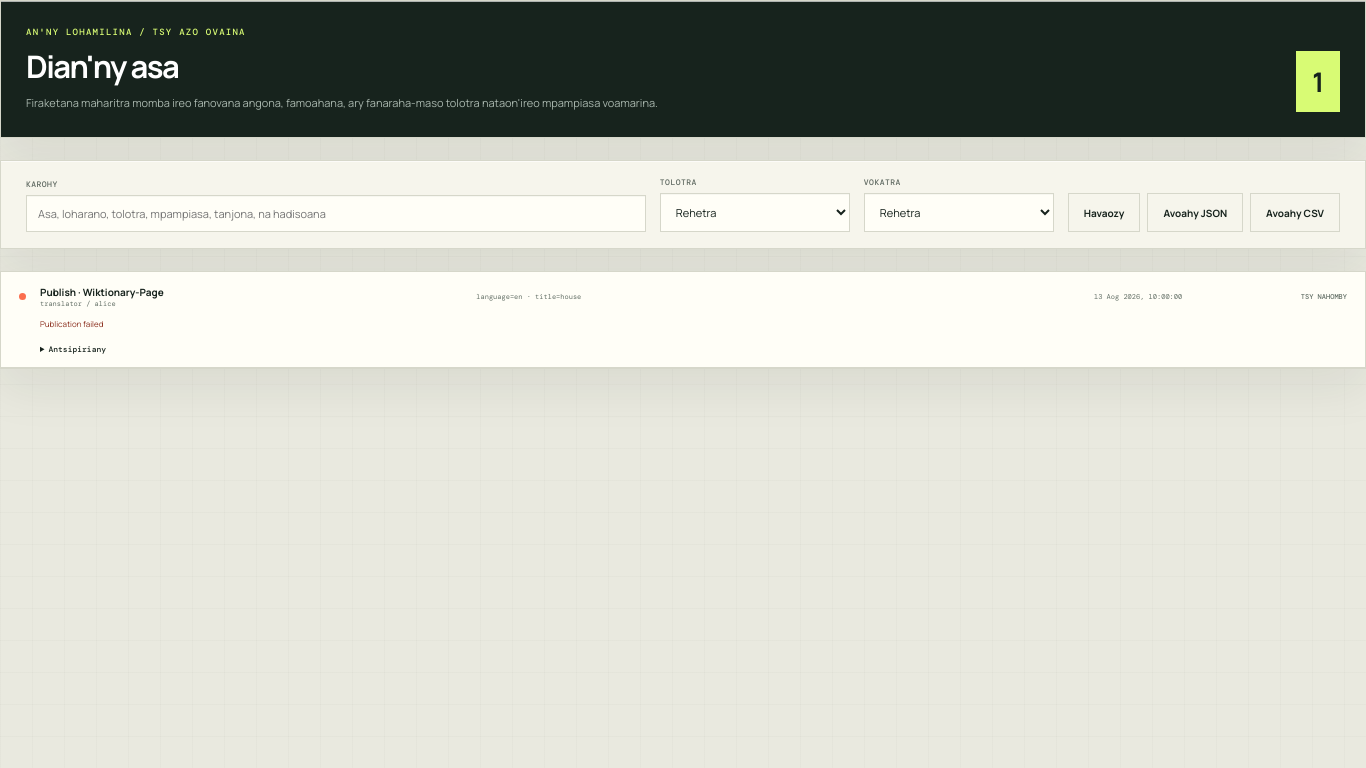
Scenario: OperationsWorkspace › expands accessible record details
Check: the text "publish · wiktionary-page" is shown, box [40,285,164,299]
Click the heading "Antsipiriany" at (77, 349), box [48,344,106,354]
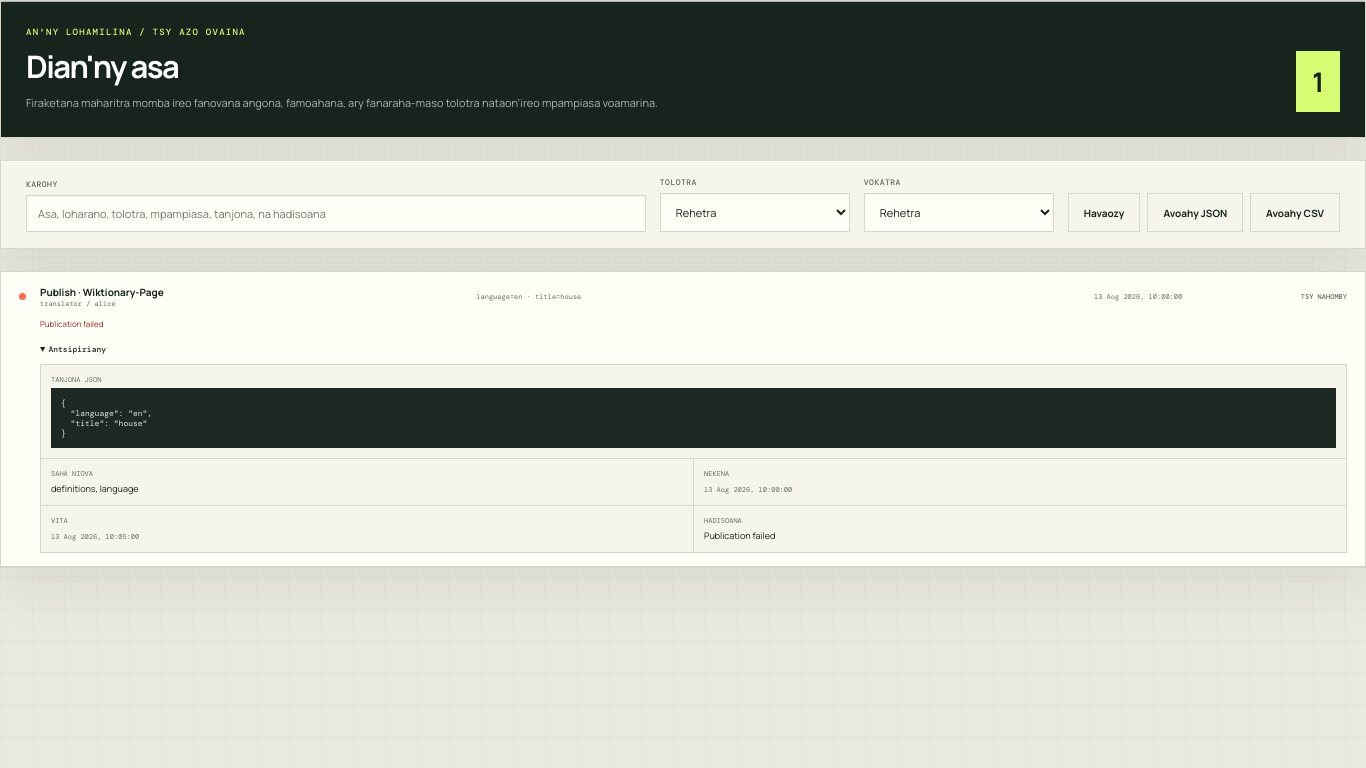
Check: the text "Tanjona JSON" is shown, box [51,375,101,384]
Check: the text "{ \"language\": \"en\", \"title\": \"house\" }" is shown, box [51,388,1336,448]
Check: the text "definitions, language" is shown, box [51,482,138,495]
